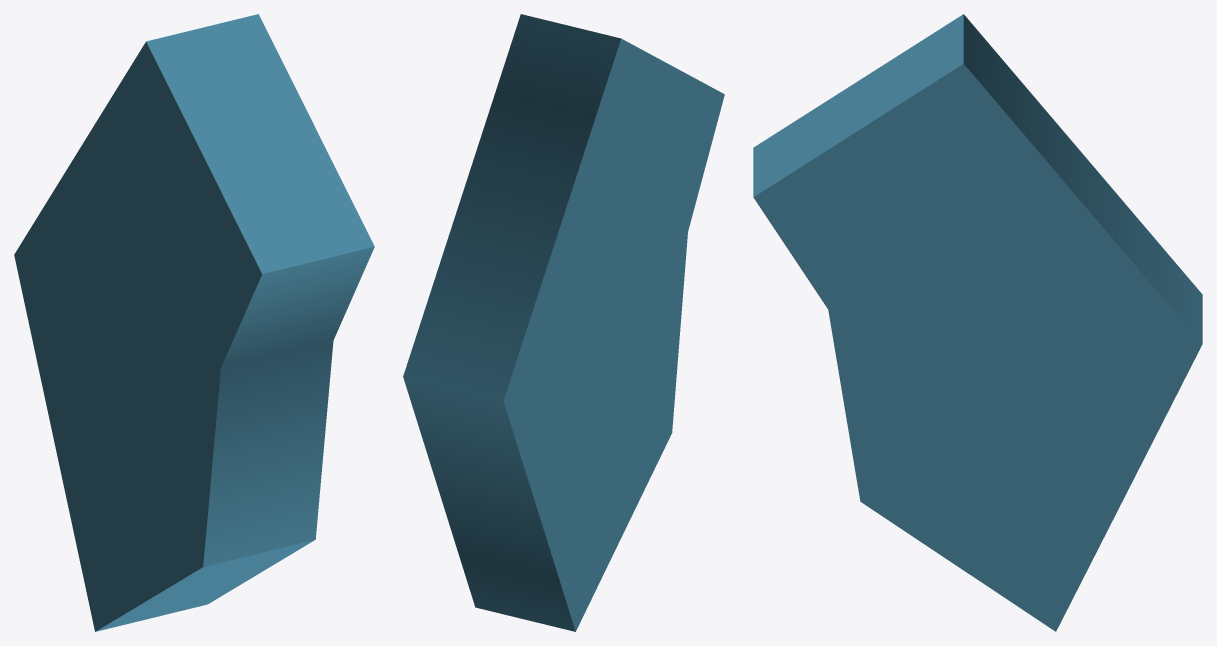
The model's file is NexusC_Trigger_7.fbx.
The picture shows the model from 3 angles, left to right: view 1: azimuth 30°, elevation 25°; view 2: azimuth 150°, elevation 25°; view 3: azimuth 270°, elevation 25°; orthographic projection. The views are drawn at different scales.
Visible parts, largest first — view 1: polySurface74; view 2: polySurface74; view 3: polySurface74.
Boxes of the visible parts, x1,y1,x2,y2 form: polySurface74: (14,14,374,631); polySurface74: (403,14,724,631); polySurface74: (753,14,1202,631).
Size of the model in its own units: 9.22 by 49.13 by 35.19.
